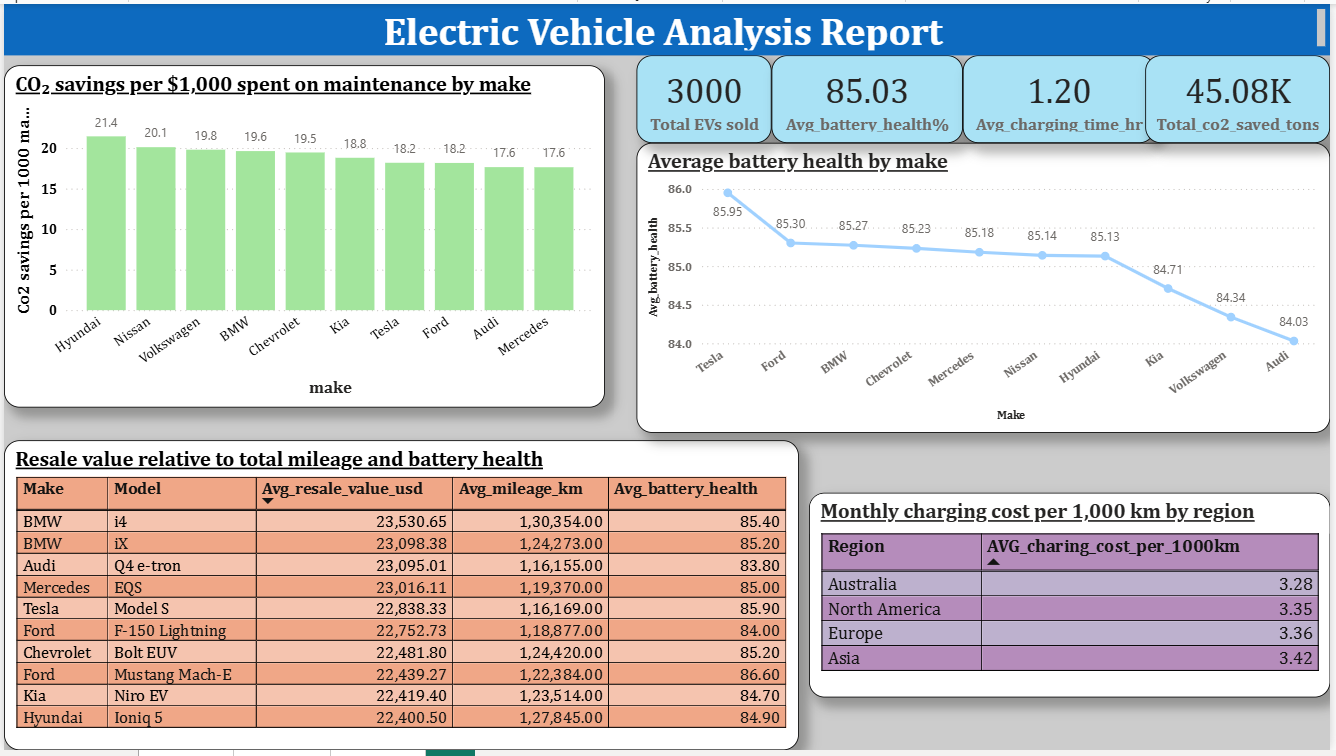

The page's visual inventory and layout, read from the dashboard file:
{"tool":"powerbi","page":{"name":"Page 2","canvas":[1280,720],"ordinal":1},"visuals":[{"type":"clusteredColumnChart","title":"CO₂ savings per $1,000 spent on maintenance by make","fields":{"Category":["Query6.make"],"Y":["Sum(Query5.Co2_savings_per_1000_maintenance)"]},"box":[0,59.1,580.3,330.6],"z":0},{"type":"tableEx","title":"Resale value relative to total mileage and battery health","fields":{"Values":["Query4.Make","Query4.Model","Sum(Query4.avg_resale_value_usd)","Sum(Query4.avg_mileage_km)","Sum(Query4.avg_battery_health)"]},"box":[0,421,767.3,299.2],"z":1000},{"type":"lineChart","title":"Average battery health by make","fields":{"Category":["KPI_2.Make"],"Y":["Sum(KPI_2.avg_battery_health)"]},"box":[610.5,133.9,669.6,279.9],"z":2000},{"type":"card","title":"Most sold EV company","fields":{"Values":["Sum(KPI_1.total_vehicles)"]},"box":[610.5,49.5,130.3,84.5],"z":3000},{"type":"card","title":"Average battery health by make","fields":{"Values":["Avg(KPI_2.avg_battery_health)"]},"box":[740.8,49.5,184.6,84.5],"z":4000},{"type":"card","title":"Average charging time per hour","fields":{"Values":["Avg(KPI_4.avg_charging_time_hr)"]},"box":[925.3,49.5,185.8,84.5],"z":5000},{"type":"card","title":"Total co2 saved ","fields":{"Values":["Sum(KPI_3.total_co2_saved_tons)"]},"box":[1101.5,49.5,178.6,84.5],"z":6000},{"type":"tableEx","title":"Monthly charging cost per 1,000 km by region","fields":{"Values":["Query2.Region","Query2.AVG_cost_per_1000km"]},"box":[776.9,471.7,503.1,197.9],"z":7000},{"type":"textbox","box":[0,0,1280,49.5],"z":8000}]}

Visuals, with their boxes in screenshot pixels (x1, y1, x2, y2), scaled from the page's 1280x720 canvas onto the 1336x756 screenshot:
"CO₂ savings per $1,000 spent on maintenance by make" clusteredColumnChart: 0, 62, 606, 409
"Resale value relative to total mileage and battery health" tableEx: 0, 442, 801, 755
"Average battery health by make" lineChart: 637, 141, 1335, 434
"Most sold EV company" card: 637, 52, 773, 141
"Average battery health by make" card: 773, 52, 966, 141
"Average charging time per hour" card: 966, 52, 1160, 141
"Total co2 saved " card: 1150, 52, 1335, 141
"Monthly charging cost per 1,000 km by region" tableEx: 811, 495, 1335, 703
textbox: 0, 0, 1335, 52
